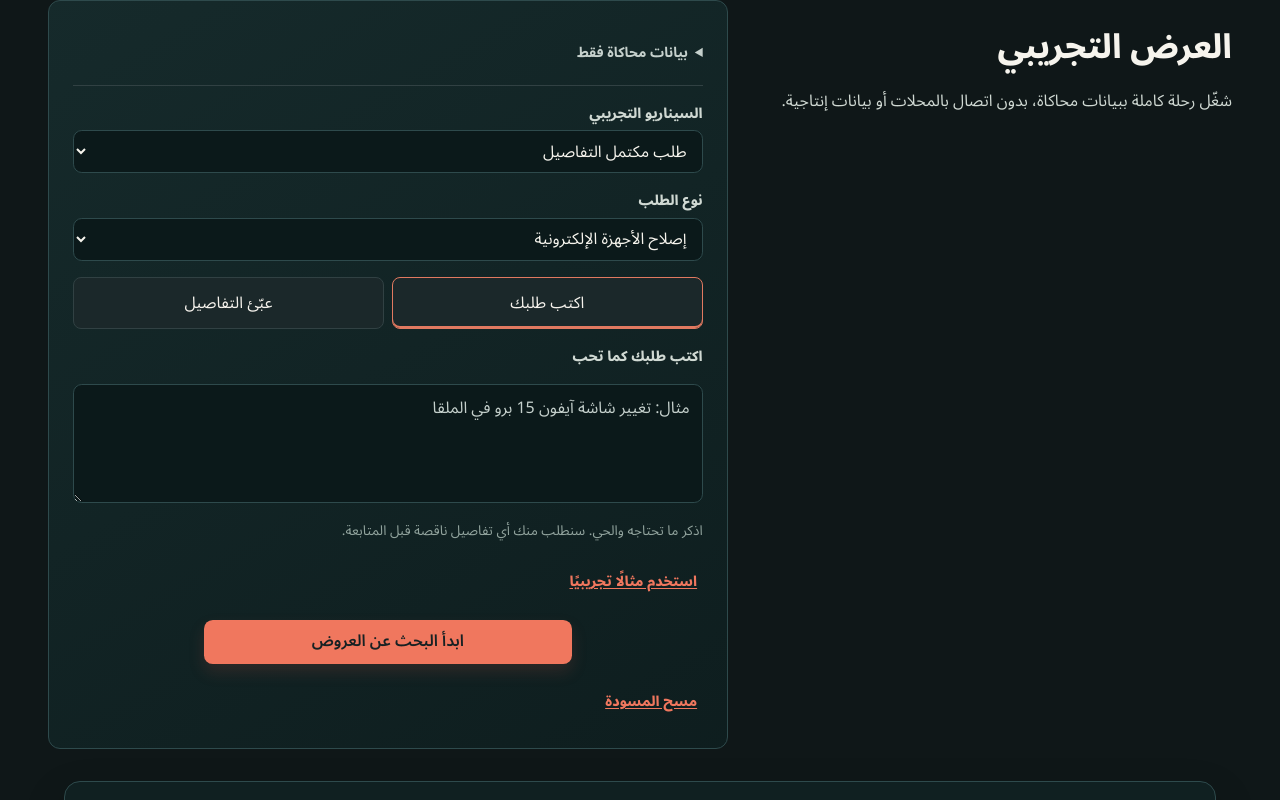
Test case: DemoPage › explains that the repeatable journey uses fixtures only
Expected: the heading "العرض التجريبي" is shown, [997, 12, 1232, 83]
Expected: the text "شغّل رحلة كاملة ببيانات محاكاة، بدون اتصال بالمحلات أو بيانات إنتاجية." is shown, [779, 86, 1232, 116]
Click the heading "بيانات محاكاة فقط" at (632, 52), box [577, 38, 688, 67]
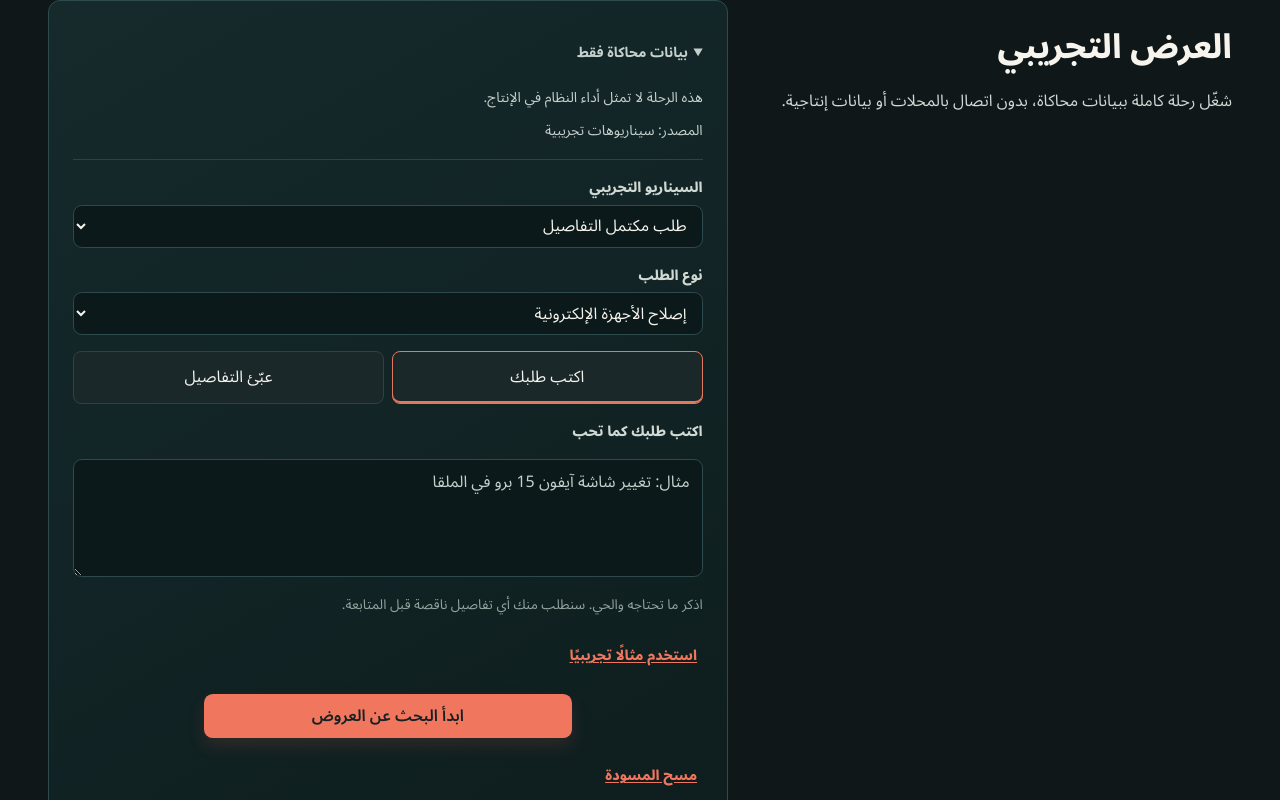
Expected: the text "هذه الرحلة لا تمثل أداء النظام في الإنتاج." is shown, [484, 83, 703, 112]
